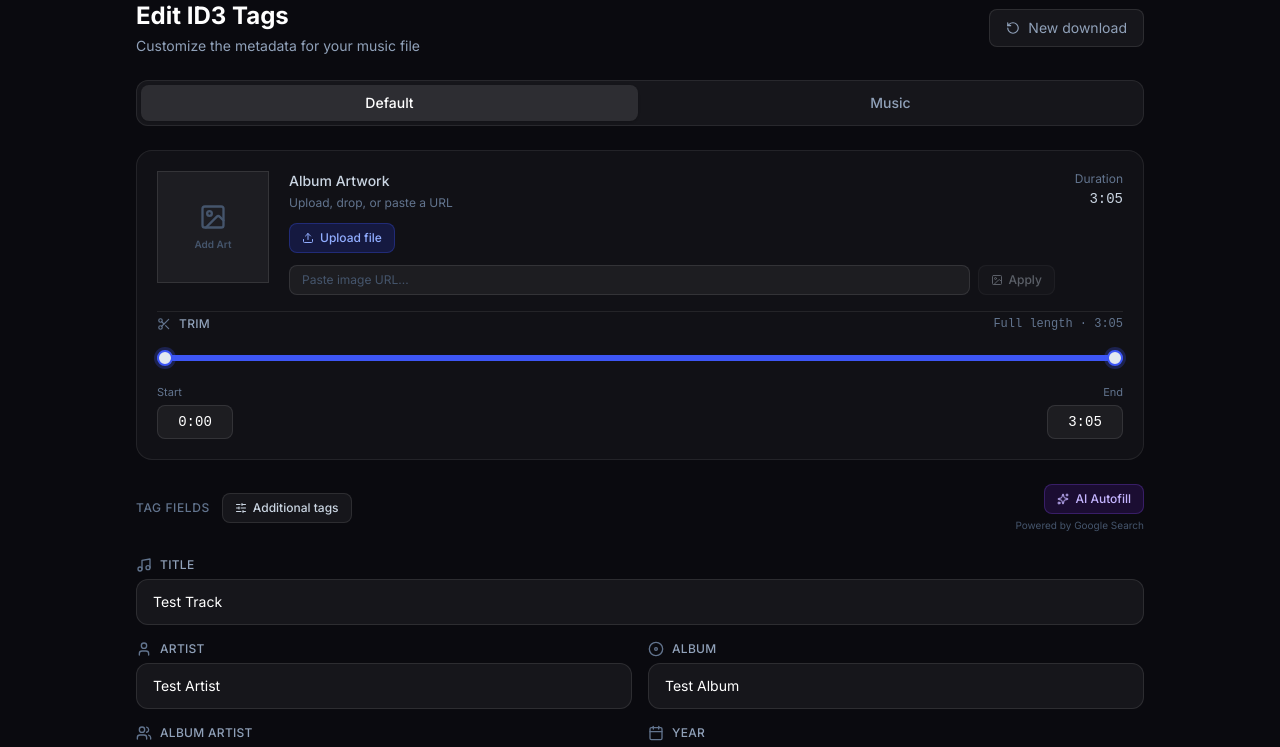
Test case: TagEditor mappings library › sorts by original name A–Z by default
This screenshot has width=1280, height=747.
Click the button "music" at {"x": 890, "y": 103}, box top-left (642, 85), bottom-right (1139, 121)
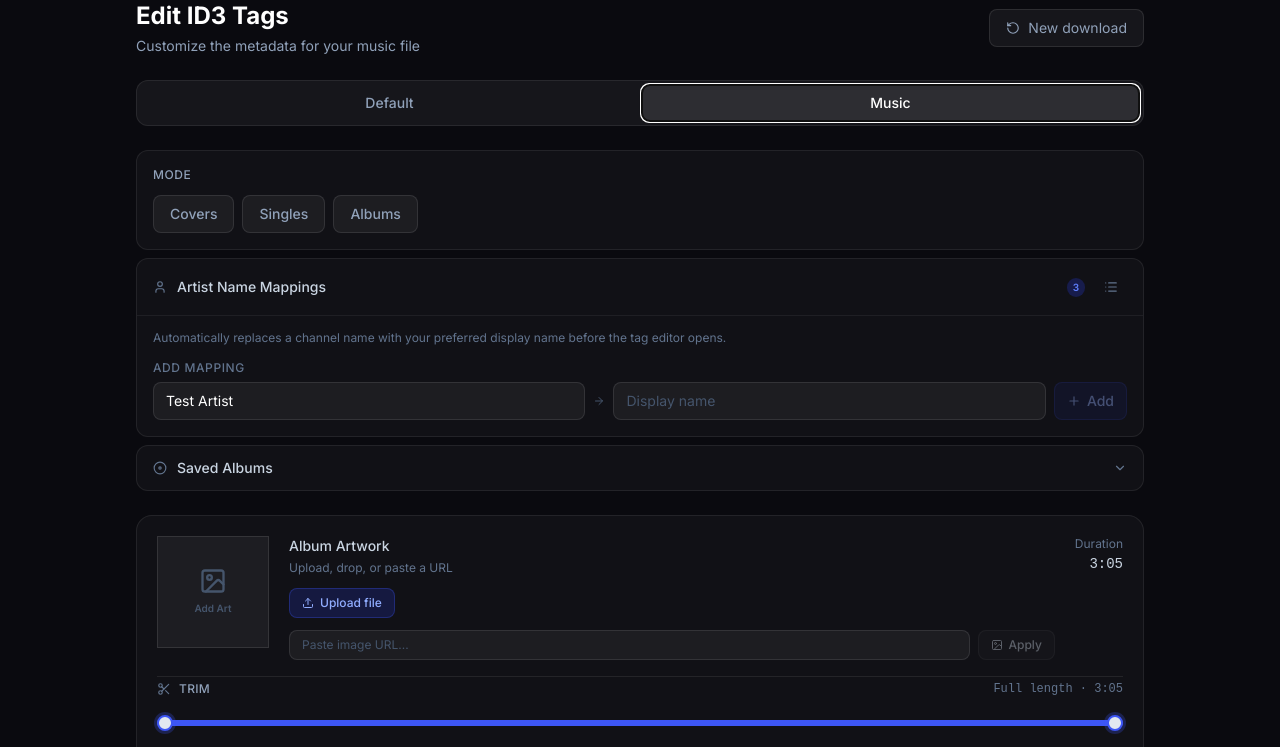
Click the button named "manage saved mappings" at {"x": 1111, "y": 287}, box top-left (1095, 271), bottom-right (1127, 303)
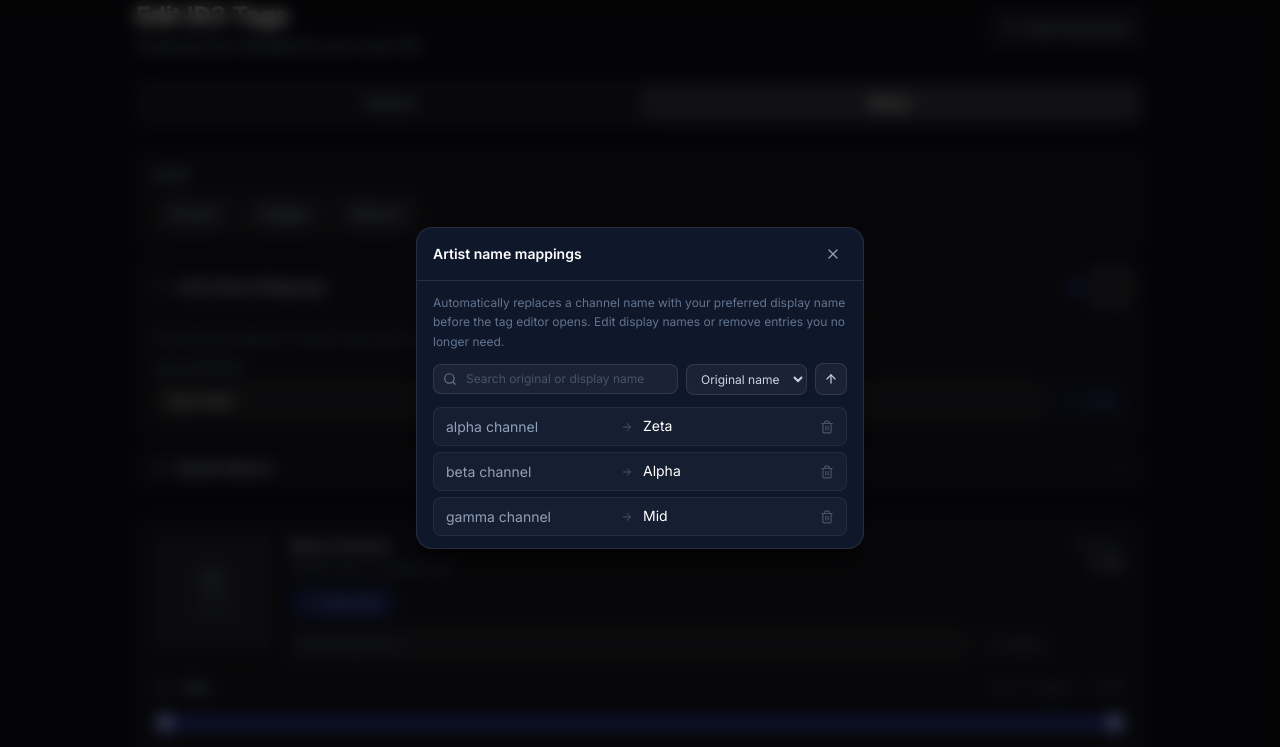
Check: the field named "Display name for alpha channel" is shown, box top-left (641, 416), bottom-right (812, 437)
